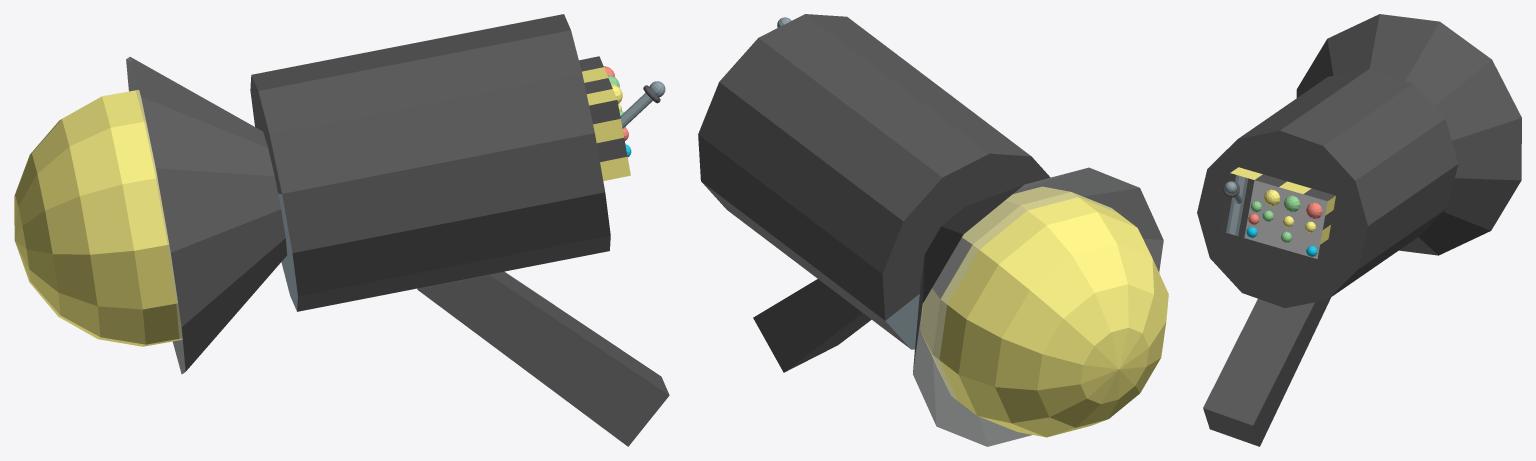
The model's file is WallLamp.fbx.
The picture shows the model from 3 angles, left to right: view 1: azimuth 30°, elevation 25°; view 2: azimuth 150°, elevation 25°; view 3: azimuth 270°, elevation 25°; orthographic projection. The views are drawn at different scales.
Parts seen in each view (by area): view 1: mesh1192421854; view 2: mesh1192421854; view 3: mesh1192421854.
Boxes of the visible parts, x1,y1,x2,y2 form: mesh1192421854: (14, 14, 669, 446); mesh1192421854: (698, 14, 1168, 446); mesh1192421854: (1197, 14, 1521, 446).
Bounding box in the file's own units: 110 × 79.43 × 77.21.
